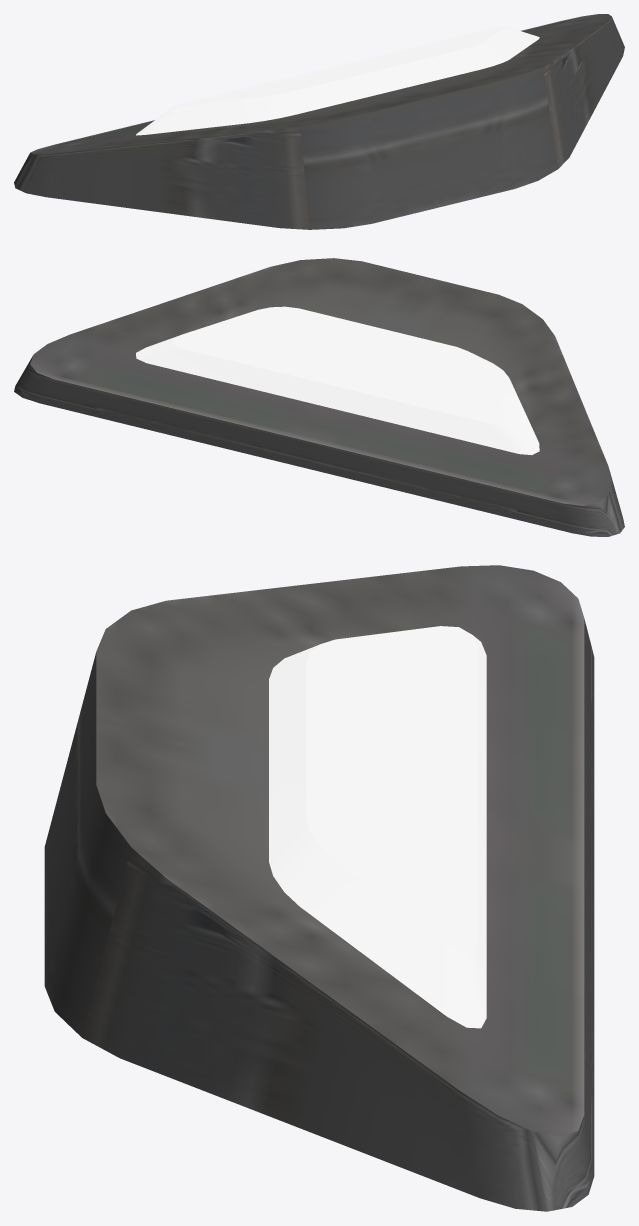
Rendered from light-floor.glb.
The picture shows the model from 3 angles, top to bottom: view 1: azimuth 30°, elevation 25°; view 2: azimuth 150°, elevation 25°; view 3: azimuth 270°, elevation 25°; orthographic projection. The views are drawn at different scales.
Parts seen in each view (by area): view 1: Prop_Light_Floor; view 2: Prop_Light_Floor; view 3: Prop_Light_Floor.
Part boxes in pixels (x1,y1,x2,y2): Prop_Light_Floor: (14, 14, 624, 229); Prop_Light_Floor: (14, 258, 624, 536); Prop_Light_Floor: (44, 565, 594, 1211).
Bounding box in the file's own units: 1.33 × 0.209 × 0.5246.
Materials: 2 (1 with a texture image).
